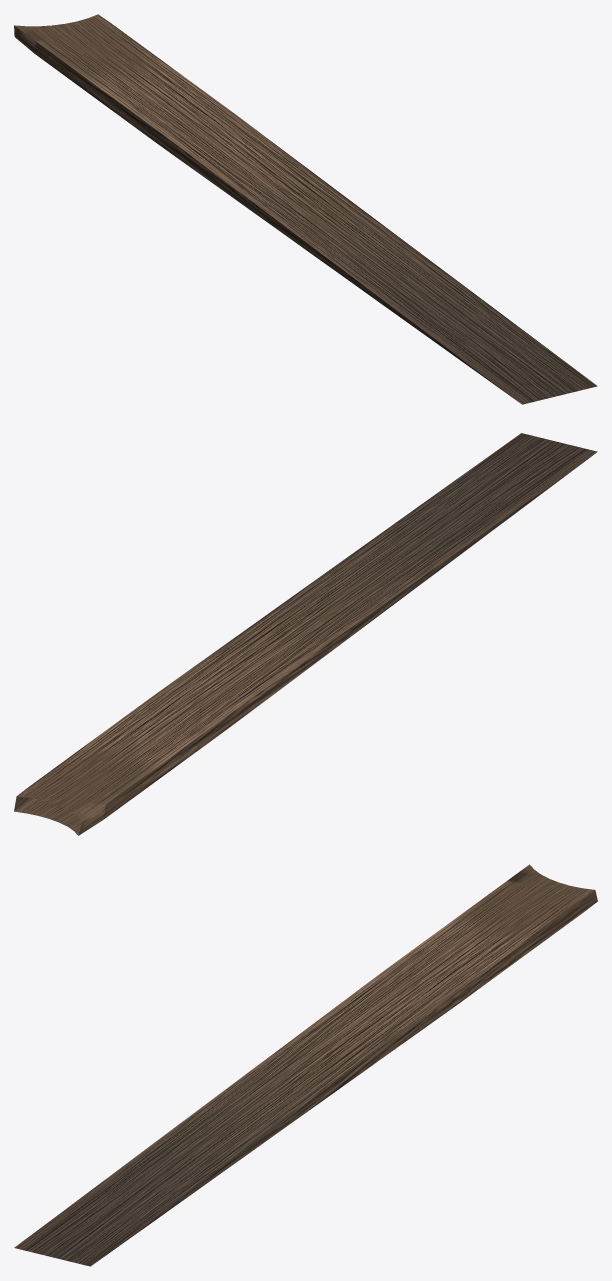
The model's file is Hair_Strand_Part_1_5.fbx.
3 views of the same model, one above another, from view 1: azimuth 30°, elevation 25°; view 2: azimuth 150°, elevation 25°; view 3: azimuth 330°, elevation 25° (orthographic).
Parts seen in each view (by area): view 1: Hair_Strand_Part_1; view 2: Hair_Strand_Part_1; view 3: Hair_Strand_Part_1.
Part boxes in pixels (<box>): Hair_Strand_Part_1: <box>14,14,597,404</box>; Hair_Strand_Part_1: <box>14,433,597,835</box>; Hair_Strand_Part_1: <box>14,864,597,1266</box>.
Size of the model in its own units: 8.76 by 1.47 by 102.
